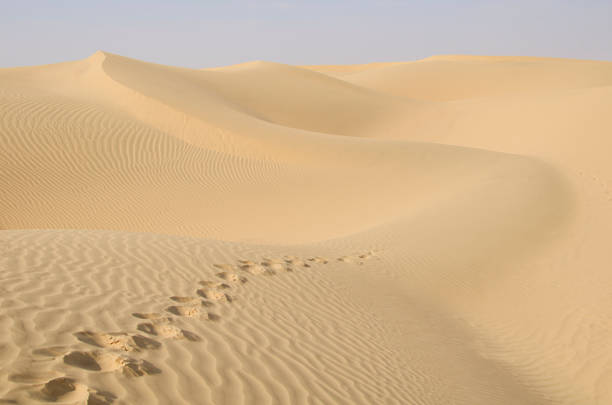animal_foot_print: (64, 350, 160, 376), (30, 376, 116, 404), (74, 331, 160, 351), (137, 322, 200, 340), (8, 370, 62, 384), (197, 287, 231, 301), (32, 346, 68, 359), (132, 312, 171, 323), (239, 262, 271, 274), (166, 305, 200, 316), (216, 272, 247, 283), (284, 256, 310, 267), (199, 280, 230, 289), (170, 296, 198, 303), (307, 256, 328, 263), (213, 264, 234, 271), (207, 312, 220, 321)
